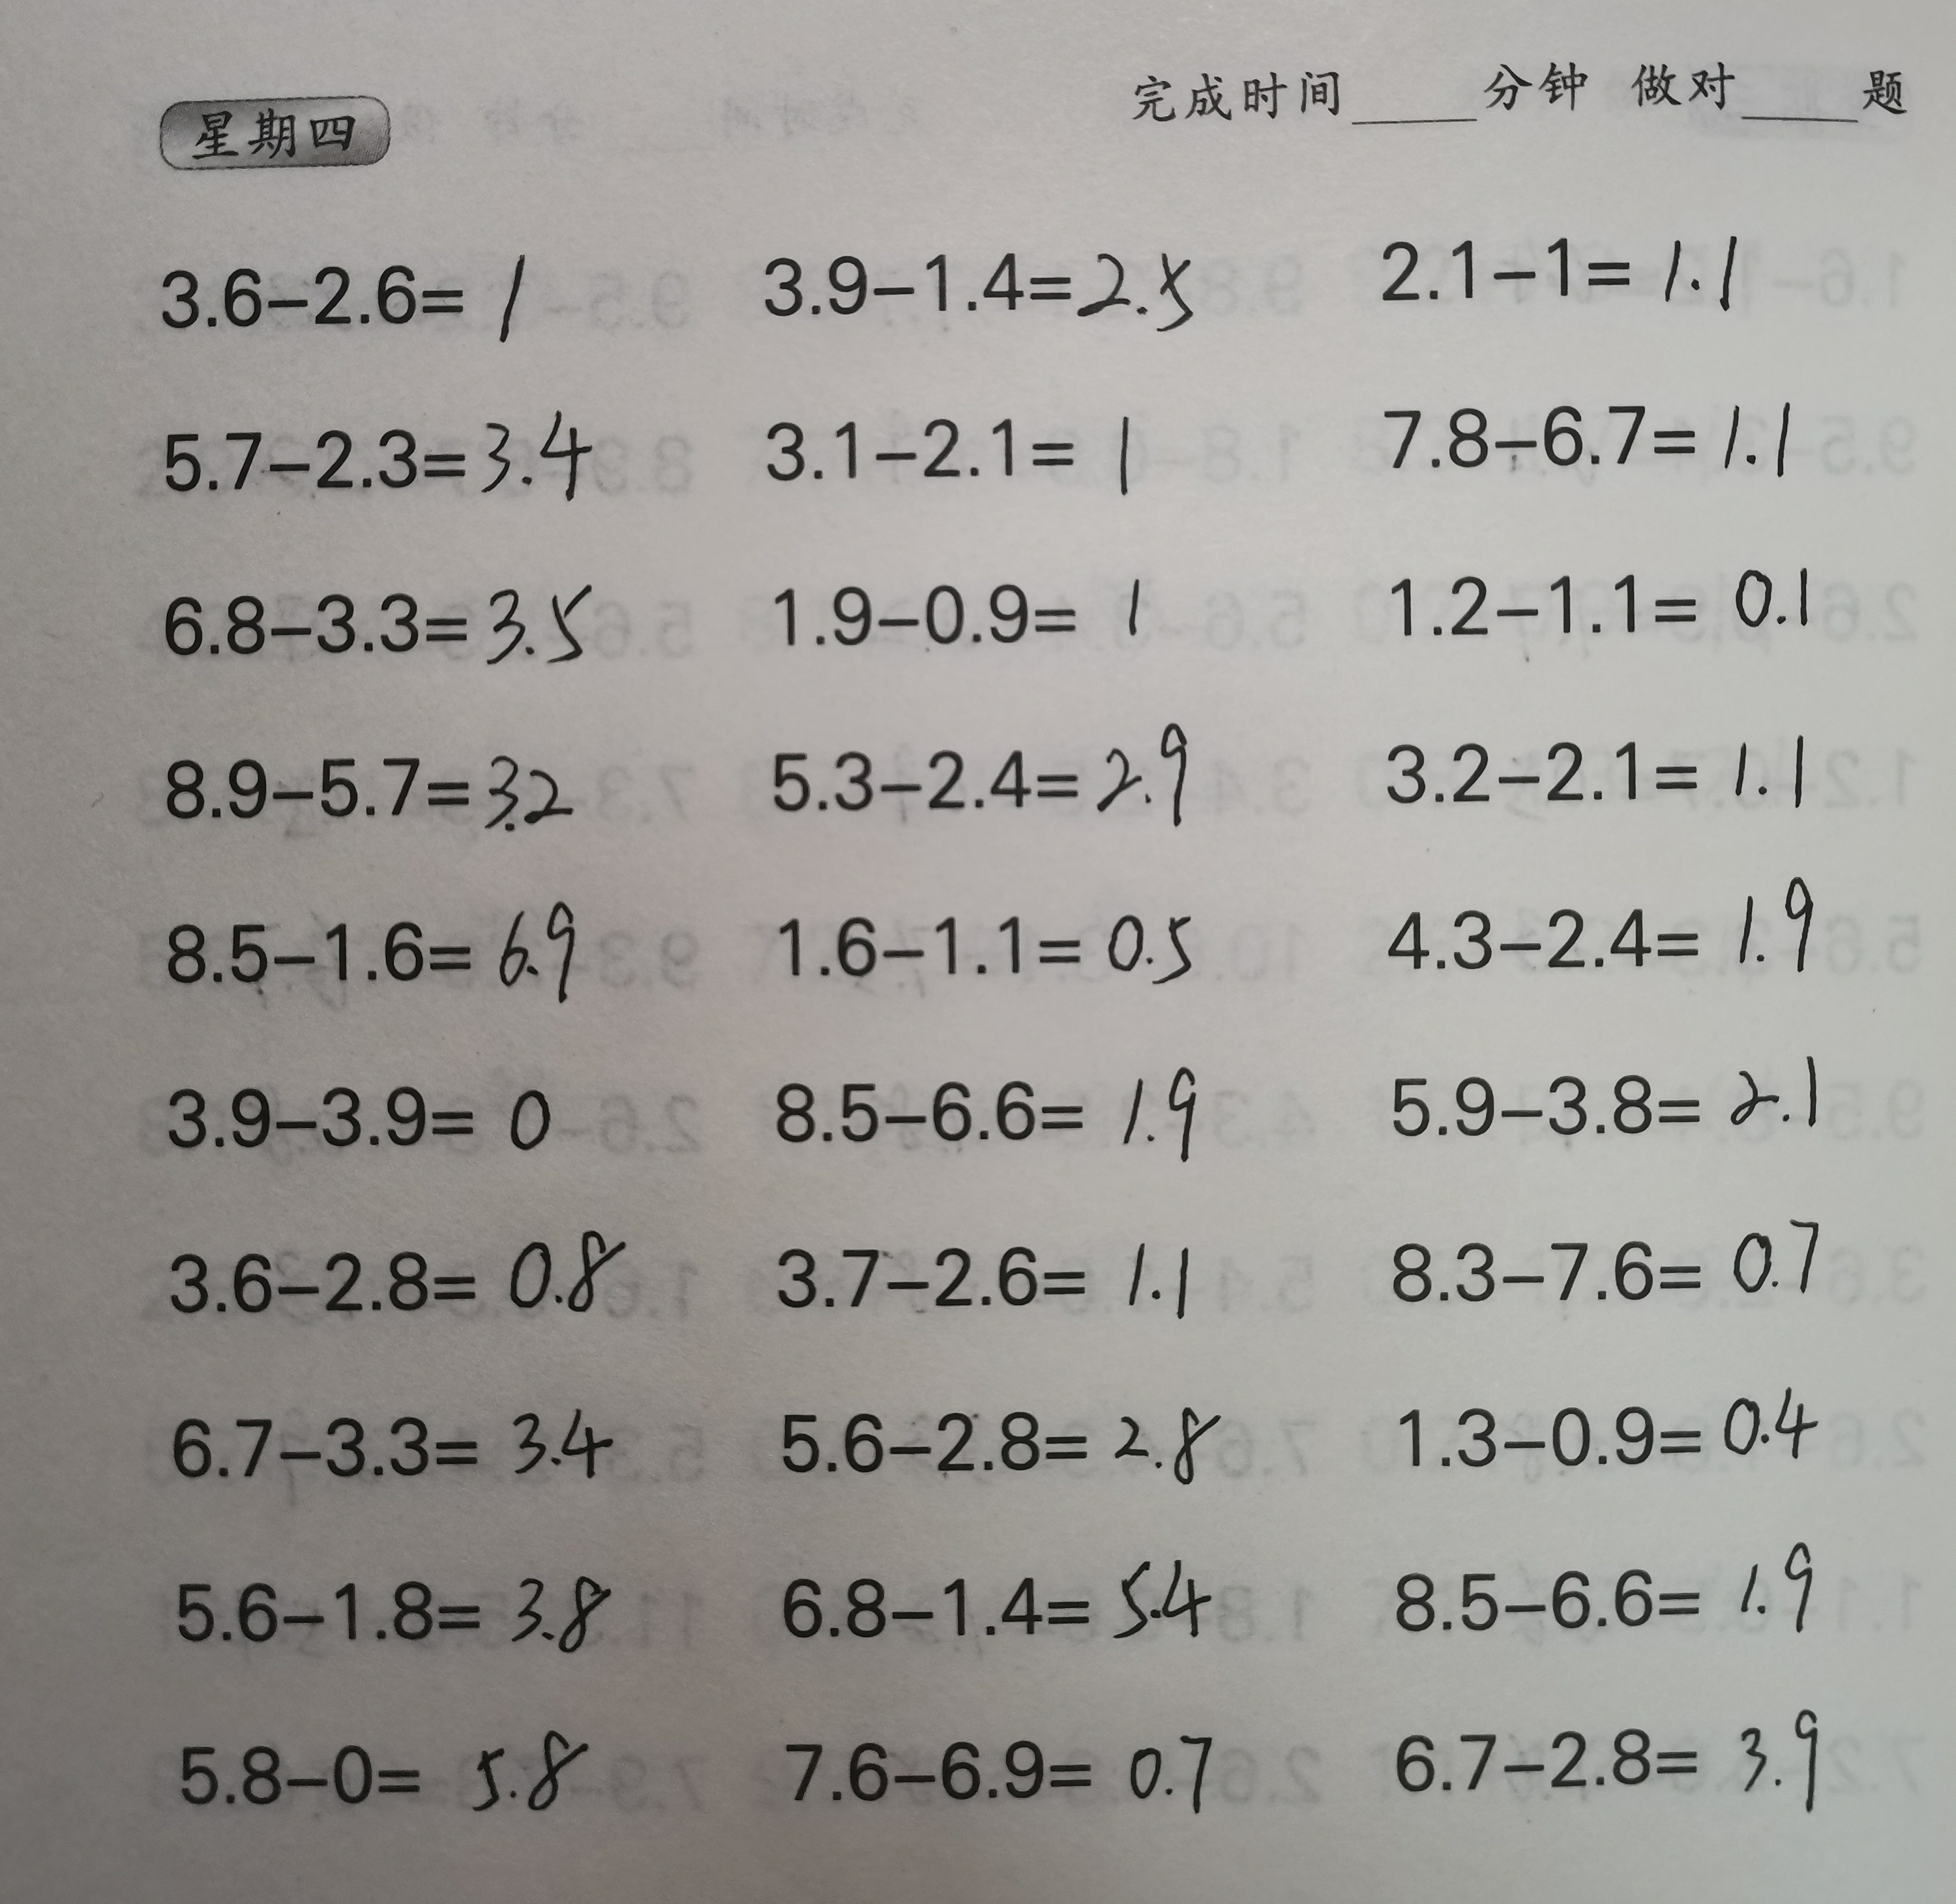equation: (735, 699, 1219, 842), (1380, 1687, 1858, 1824), (1371, 1523, 1846, 1659), (1371, 866, 1848, 999), (763, 1050, 1222, 1186), (147, 884, 604, 1018), (768, 1708, 1250, 1832), (133, 1052, 599, 1177), (730, 229, 1228, 346), (754, 1376, 1235, 1495), (1381, 1368, 1842, 1490), (157, 1555, 629, 1672), (154, 1387, 644, 1497), (154, 397, 610, 512), (155, 723, 585, 844), (140, 562, 603, 674), (1355, 203, 1771, 325), (1353, 370, 1806, 482), (1369, 713, 1834, 821), (1364, 1039, 1851, 1142), (1366, 542, 1844, 646), (1355, 1214, 1834, 1319), (761, 901, 1229, 1008), (754, 1551, 1229, 1656), (148, 1223, 648, 1322), (746, 397, 1175, 512), (162, 1715, 608, 1825), (763, 1224, 1224, 1322), (136, 234, 547, 342), (753, 559, 1184, 652)
